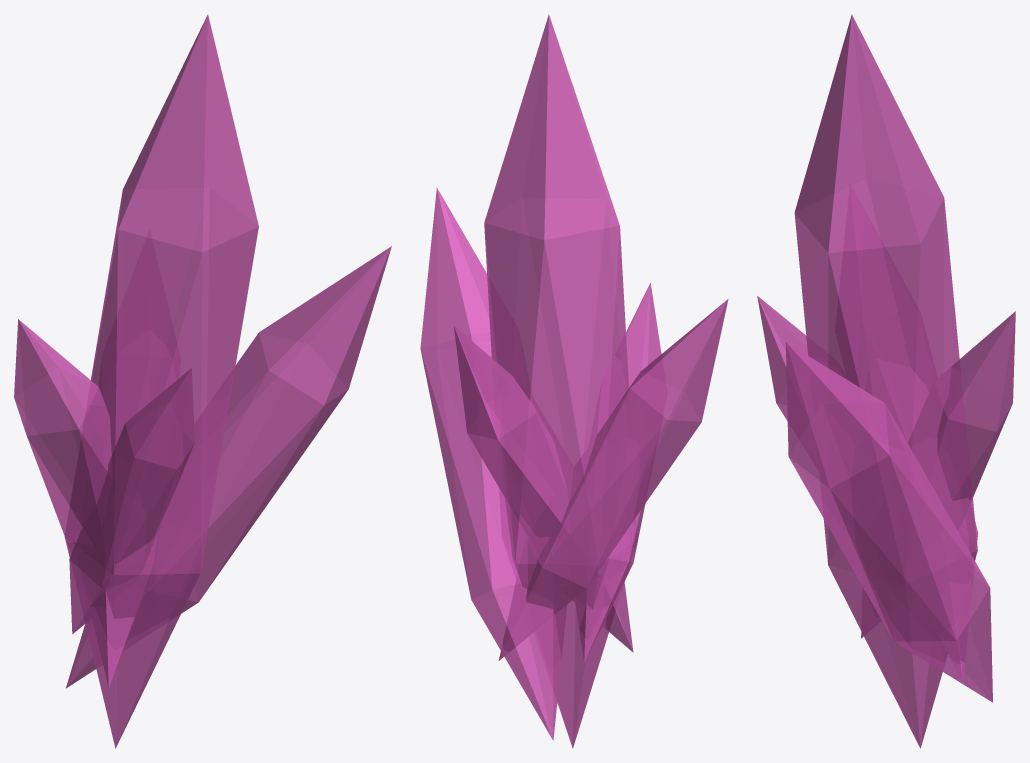
Rendered from MagicstoneParticle.fbx.
3 views of the same model, side by side, from view 1: azimuth 30°, elevation 25°; view 2: azimuth 150°, elevation 25°; view 3: azimuth 270°, elevation 25° (orthographic). The views are drawn at different scales.
Visible parts, largest first — view 1: MagicstoneParticle; view 2: MagicstoneParticle; view 3: MagicstoneParticle.
Boxes of the visible parts, x1,y1,x2,y2 form: MagicstoneParticle: (14, 14, 391, 748); MagicstoneParticle: (420, 14, 728, 748); MagicstoneParticle: (757, 14, 1015, 748).
Bounding box in the file's own units: 1.16 × 2.41 × 0.7399.
